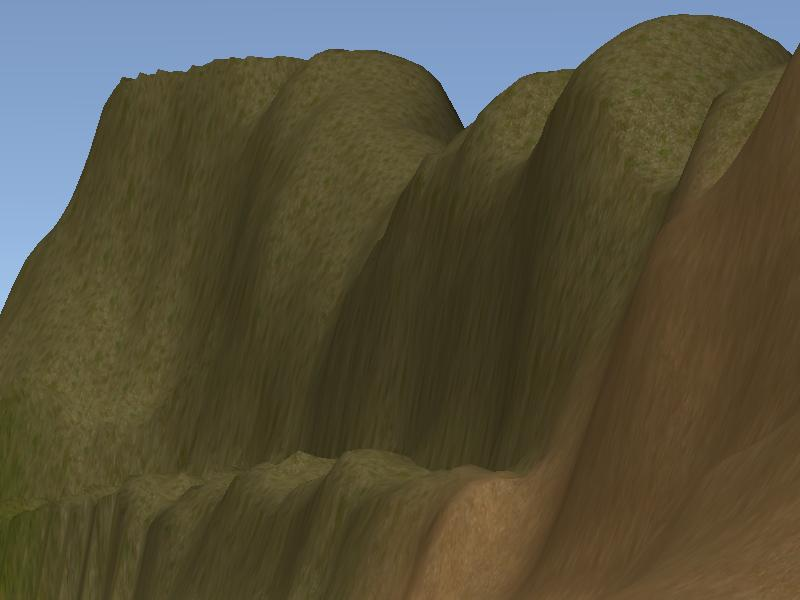background: (1, 2, 800, 600)
